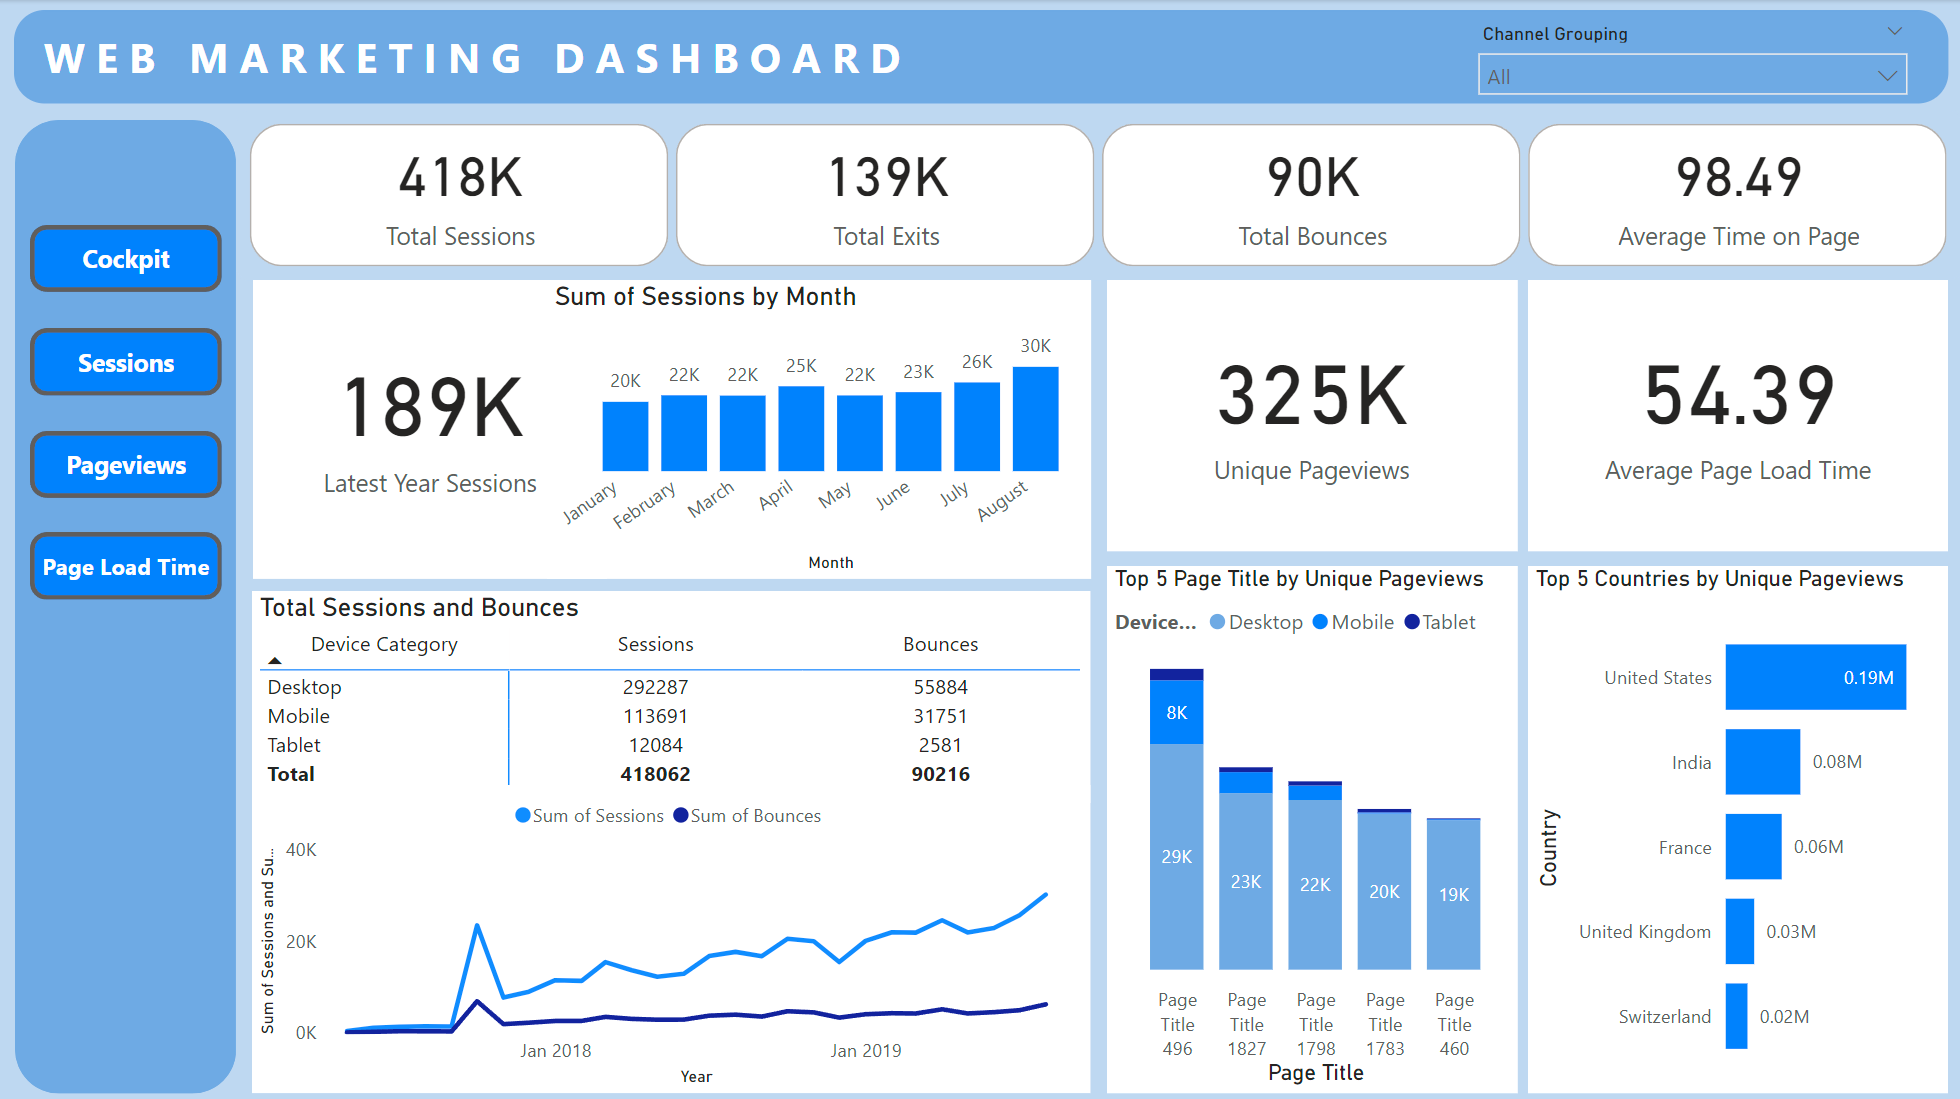

The dashboard page shown, as its layout file describes it:
{"tool":"powerbi","page":{"name":"Page 1","canvas":[1280,720],"ordinal":0},"visuals":[{"type":"textbox","box":[9.2,6.8,1262.5,60.8],"z":0},{"type":"shape","box":[9.8,78,144.4,635.2],"z":1000},{"type":"actionButton","box":[19.7,146.8,125.3,43.6],"z":2000},{"type":"actionButton","box":[19.7,213.8,125.3,44.2],"z":3000},{"type":"actionButton","box":[19.7,281.4,125.3,43.6],"z":4000},{"type":"actionButton","box":[19.7,347.1,125.3,44.2],"z":5000},{"type":"cardVisual","fields":{"Data":["Sum(Power BI hw assignment - Web Marketing Dashboard Data.Sessions)","Sum(Power BI hw assignment - Web Marketing Dashboard Data.Exits)","Sum(Power BI hw assignment - Web Marketing Dashboard Data.Bounces)","Avg(Power BI hw assignment - Web Marketing Dashboard Data.Time on Page)"]},"box":[154.2,71.9,1126.1,111.2],"z":6000},{"type":"cardVisual","fields":{"Data":["Sum(Power BI hw assignment - Web Marketing Dashboard Data.Sessions)"]},"box":[165.3,183,231.3,194.7],"z":7000},{"type":"clusteredColumnChart","fields":{"Category":["Power BI hw assignment - Web Marketing Dashboard Data.Date.Variation.Date Hierarchy.Month"],"Y":["Sum(Power BI hw assignment - Web Marketing Dashboard Data.Sessions)"]},"box":[356.8,183,354.8,194.7],"z":8000},{"type":"cardVisual","fields":{"Data":["Sum(Power BI hw assignment - Web Marketing Dashboard Data.Unique Pageviews)"]},"box":[722,183,267.9,177.1],"z":9000},{"type":"cardVisual","fields":{"Data":["Avg(Power BI hw assignment - Web Marketing Dashboard Data.Page Load Time)"]},"box":[997.1,183,274.4,177.1],"z":10000},{"type":"pivotTable","title":"Total Sessions and Bounces","fields":{"Rows":["Power BI hw assignment - Web Marketing Dashboard Data.Device Category"],"Values":["Sum(Power BI hw assignment - Web Marketing Dashboard Data.Sessions)","Sum(Power BI hw assignment - Web Marketing Dashboard Data.Bounces)"]},"box":[164.7,385.5,546.9,137.9],"z":11000},{"type":"lineChart","fields":{"Y":["Sum(Power BI hw assignment - Web Marketing Dashboard Data.Sessions)","Sum(Power BI hw assignment - Web Marketing Dashboard Data.Bounces)"],"Category":["Power BI hw assignment - Web Marketing Dashboard Data.Date.Variation.Date Hierarchy.Year","Power BI hw assignment - Web Marketing Dashboard Data.Date.Variation.Date Hierarchy.Month"]},"box":[164.7,512.3,546.9,200.6],"z":11001},{"type":"columnChart","title":"Top 5 Page Title by  Unique Pageviews","fields":{"Category":["Power BI hw assignment - Web Marketing Dashboard Data.Page Title"],"Y":["Sum(Power BI hw assignment - Web Marketing Dashboard Data.Unique Pageviews)"],"Series":["Power BI hw assignment - Web Marketing Dashboard Data.Device Category"]},"box":[722,369.2,267.9,343.7],"z":11002},{"type":"clusteredBarChart","title":"Top 5 Countries by  Unique Pageviews","fields":{"Y":["Sum(Power BI hw assignment - Web Marketing Dashboard Data.Unique Pageviews)"],"Category":["Power BI hw assignment - Web Marketing Dashboard Data.Country"]},"box":[997.1,369.2,274.4,343.7],"z":11003},{"type":"slicer","fields":{"Values":["Power BI hw assignment - Web Marketing Dashboard Data.Channel Grouping"]},"box":[954.6,9.8,299.9,57.5],"z":11004}]}

Visuals, with their boxes in screenshot pixels (x1, y1, x2, y2), scaled from the page's 1280x720 canvas onto the 1960x1099 screenshot:
textbox: 14 10 1947 103
shape: 15 119 236 1089
actionButton: 30 224 222 291
actionButton: 30 326 222 394
actionButton: 30 430 222 496
actionButton: 30 530 222 597
cardVisual - Sum(Power BI hw assignment - Web Marketing Dashboard Data.Sessions) x Sum(Power BI hw assignment - Web Marketing Dashboard Data.Exits): 236 110 1959 279
cardVisual - Sum(Power BI hw assignment - Web Marketing Dashboard Data.Sessions): 253 279 607 577
clusteredColumnChart - Power BI hw assignment - Web Marketing Dashboard Data.Date.Variation.Date Hierarchy.Month x Sum(Power BI hw assignment - Web Marketing Dashboard Data.Sessions): 546 279 1090 577
cardVisual - Sum(Power BI hw assignment - Web Marketing Dashboard Data.Unique Pageviews): 1106 279 1516 550
cardVisual - Avg(Power BI hw assignment - Web Marketing Dashboard Data.Page Load Time): 1527 279 1947 550
"Total Sessions and Bounces" pivotTable: 252 588 1090 799
lineChart - Sum(Power BI hw assignment - Web Marketing Dashboard Data.Sessions) x Sum(Power BI hw assignment - Web Marketing Dashboard Data.Bounces): 252 782 1090 1088
"Top 5 Page Title by  Unique Pageviews" columnChart: 1106 564 1516 1088
"Top 5 Countries by  Unique Pageviews" clusteredBarChart: 1527 564 1947 1088
slicer - Power BI hw assignment - Web Marketing Dashboard Data.Channel Grouping: 1462 15 1921 103
